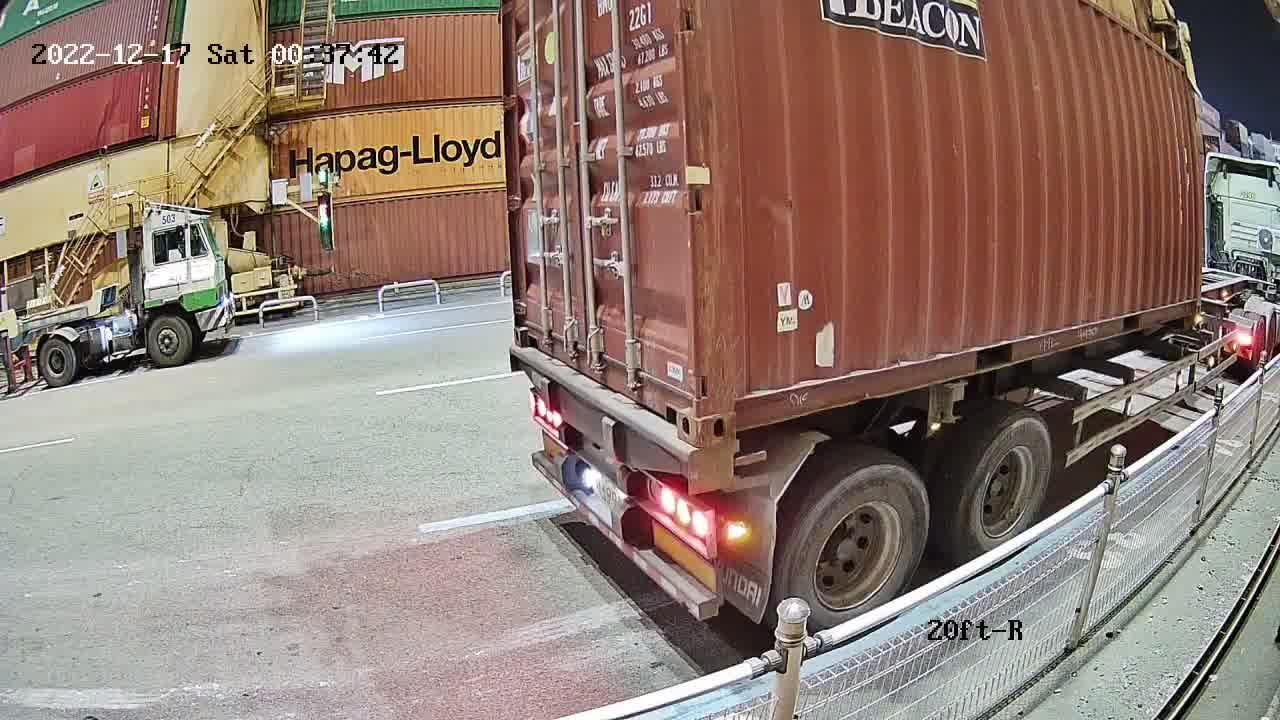Chassis: (514, 349, 693, 483)
Cone: (697, 440, 741, 488)
Hole_L: (693, 360, 772, 443), (514, 303, 546, 351)
Hole_R: (653, 358, 697, 443)
Tire: (790, 471, 927, 623), (963, 419, 1055, 548)
